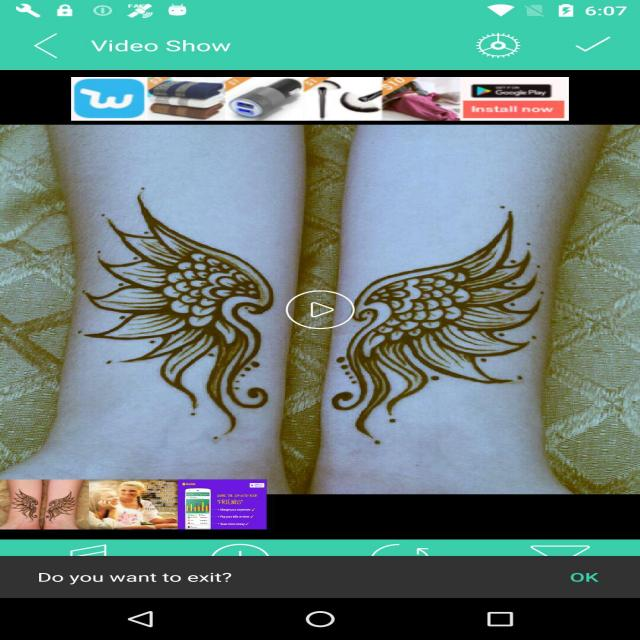button: (0, 124, 637, 496), (64, 73, 571, 121), (0, 478, 270, 531), (1, 539, 182, 563), (450, 23, 544, 69), (6, 21, 82, 70), (549, 20, 631, 64), (326, 540, 496, 560), (183, 540, 322, 562), (498, 541, 640, 558), (552, 564, 620, 589)
icon: (463, 27, 534, 62), (558, 28, 628, 58), (520, 538, 604, 560), (22, 29, 73, 65), (353, 540, 443, 559), (50, 540, 127, 558), (204, 541, 274, 558)
image: (0, 123, 640, 494), (70, 76, 569, 121), (0, 477, 274, 534)
text: (27, 561, 251, 590), (84, 34, 259, 60), (567, 567, 605, 587)
